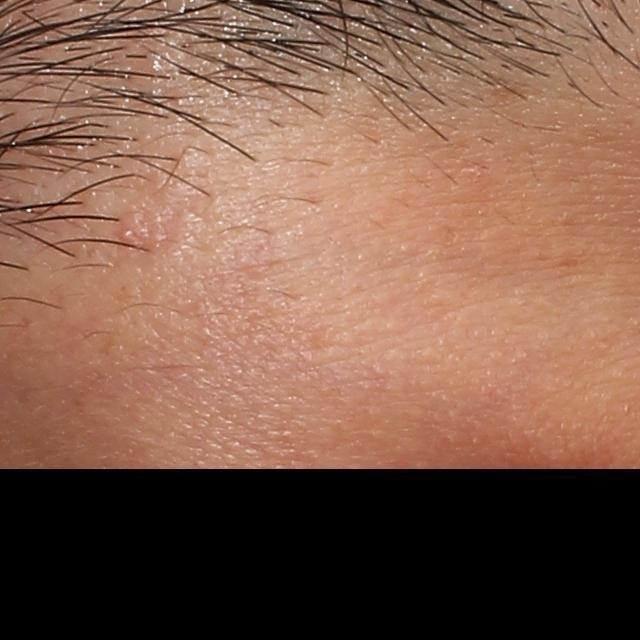papule: (116, 221, 140, 246)
